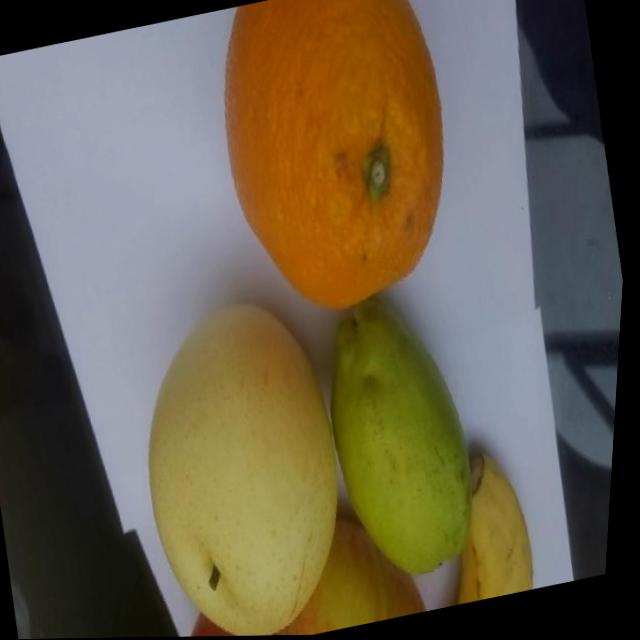Banana: (434, 442, 551, 608)
Orange: (193, 0, 482, 331)
